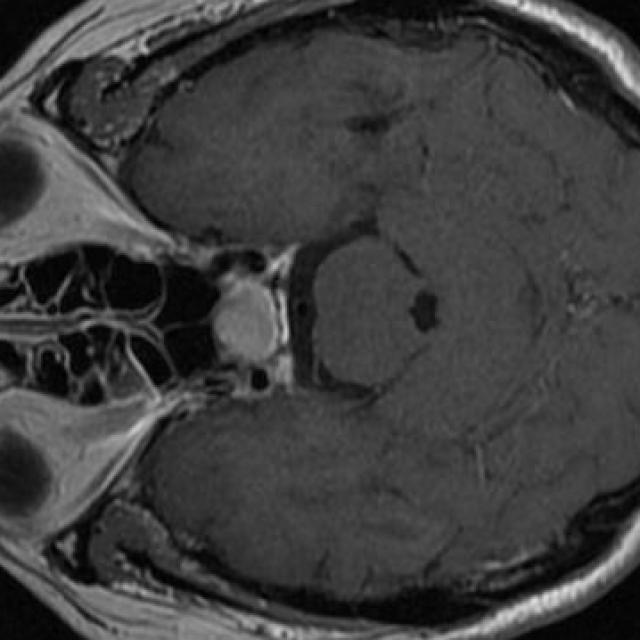pituitary: (212, 282, 278, 360)
